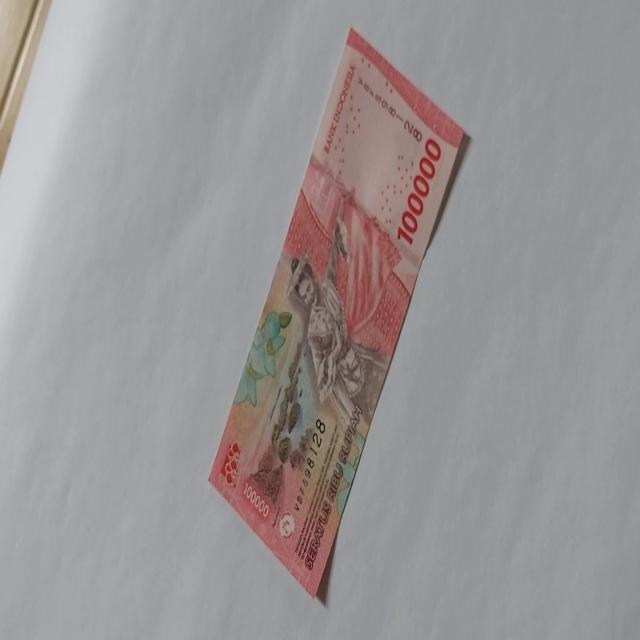seratus ribu rupiah: (207, 26, 467, 600)
